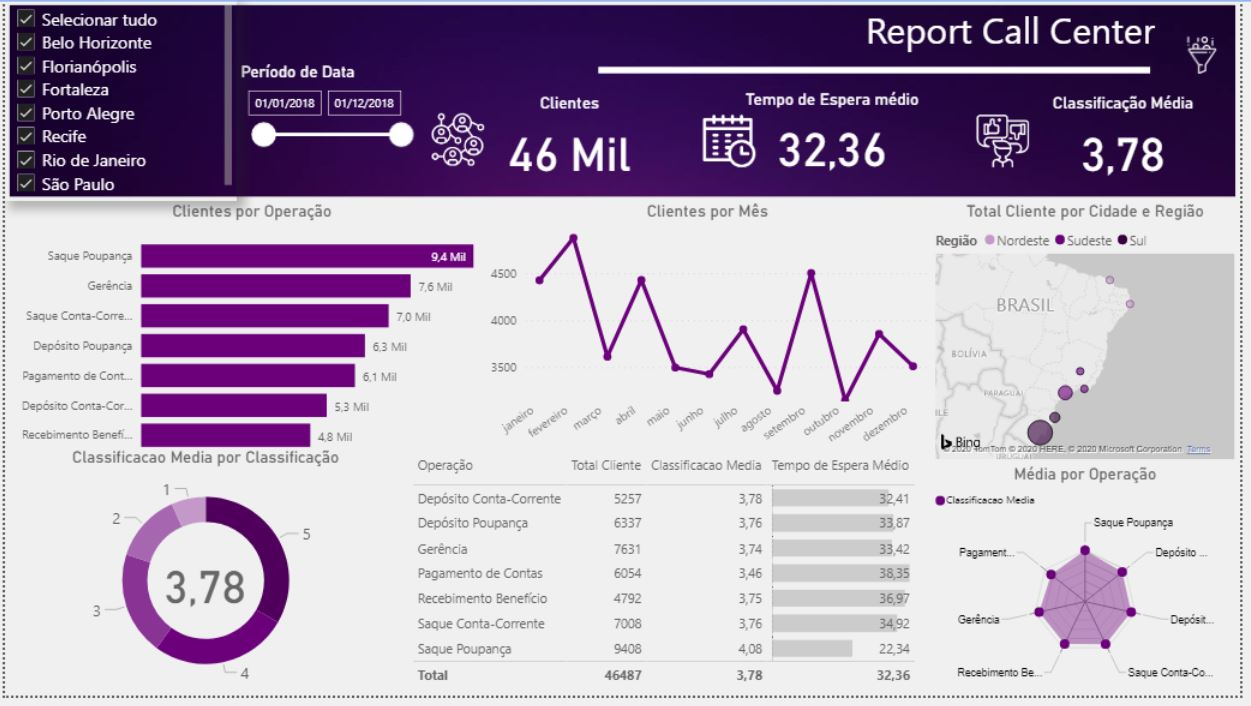

This screenshot's page, from the dashboard's own definition file:
{"tool":"powerbi","page":{"name":"Página 1","canvas":[1280,720],"ordinal":0},"visuals":[{"type":"image","box":[0,0,1280,208],"z":0},{"type":"card","title":"Clientes","fields":{"Values":["Cliente.Total Cliente"]},"box":[456.5,96,256,96],"z":1000},{"type":"card","title":"Tempo de Espera médio","fields":{"Values":["Avg(Cliente.Tempo de Espera)"]},"box":[729.7,91.1,256,96],"z":2000},{"type":"card","title":"Classificação Média","fields":{"Values":["Pesquisa.Classificacao Media"]},"box":[1039.3,97,240,96],"z":3000},{"type":"image","box":[978.3,113,112,64],"z":4000},{"type":"image","box":[710,113,80,64],"z":5000},{"type":"image","box":[420.7,112,96,64],"z":6000},{"type":"barChart","title":"Clientes por Operação","fields":{"Category":["Cliente.Operação"],"Y":["Cliente.Total Cliente"]},"box":[0,208,512,272],"z":7000},{"type":"lineChart","title":"Clientes por Mês","fields":{"Category":["Cliente.Data.Variation.Hierarquia de datas.Mês"],"Y":["Cliente.Total Cliente"]},"box":[496,208,464,272],"z":8000},{"type":"donutChart","fields":{"Category":["Pesquisa.Classificação"],"Y":["Pesquisa.Classificacao Media"]},"box":[0,464,416,256],"z":9000},{"type":"card","fields":{"Values":["Pesquisa.Classificacao Media"]},"box":[151.1,570.4,112.9,63.5],"z":10000},{"type":"tableEx","fields":{"Values":["Cliente.Operação","Cliente.Total Cliente","Pesquisa.Classificacao Media","Avg(Cliente.Tempo de Espera)"]},"box":[416,464,544,256],"z":11000},{"type":"map","fields":{"Category":["Cliente.Cidade"],"Size":["Cliente.Total Cliente"],"Series":["Cliente.Região"]},"box":[960,208,320,272],"z":12000},{"type":"RadarChart1446119667547","title":"Média por Operação","fields":{"Category":["Cliente.Operação"],"Y":["Pesquisa.Classificacao Media"]},"box":[960,480,320,240],"z":13000},{"type":"textbox","box":[605,0,592,64],"z":14000},{"type":"basicShape","box":[605,48,592,48],"z":15000},{"type":"slicer","title":"Período de Data","fields":{"Values":["Cliente.Data"]},"box":[240,64,192,96],"z":16000},{"type":"slicer","fields":{"Values":["Cliente.Cidade"]},"box":[0,0,240,208],"z":17000},{"type":"image","box":[1200,32,80,48],"z":18000}]}

Visuals, with their boxes in screenshot pixels (x1, y1, x2, y2), scaled from the page's 1280x720 canvas onto the 1251x706 screenshot:
image: rect(0, 0, 1250, 204)
"Clientes" card: rect(446, 94, 696, 188)
"Tempo de Espera médio" card: rect(713, 89, 963, 183)
"Classificação Média" card: rect(1016, 95, 1250, 189)
image: rect(956, 111, 1066, 174)
image: rect(694, 111, 772, 174)
image: rect(411, 110, 505, 173)
"Clientes por Operação" barChart: rect(0, 204, 500, 471)
"Clientes por Mês" lineChart: rect(485, 204, 938, 471)
donutChart - Pesquisa.Classificação x Pesquisa.Classificacao Media: rect(0, 455, 407, 705)
card - Pesquisa.Classificacao Media: rect(148, 559, 258, 622)
tableEx - Cliente.Operação x Cliente.Total Cliente: rect(407, 455, 938, 705)
map - Cliente.Cidade x Cliente.Total Cliente: rect(938, 204, 1250, 471)
"Média por Operação" RadarChart1446119667547: rect(938, 471, 1250, 705)
textbox: rect(591, 0, 1170, 63)
basicShape: rect(591, 47, 1170, 94)
"Período de Data" slicer: rect(235, 63, 422, 157)
slicer - Cliente.Cidade: rect(0, 0, 235, 204)
image: rect(1173, 31, 1250, 78)
